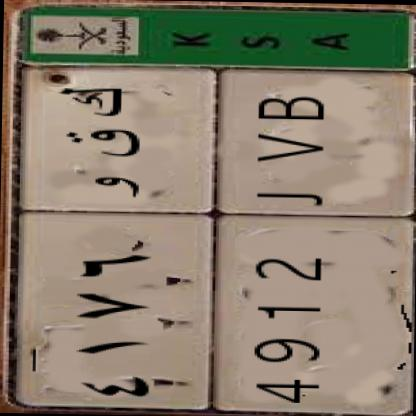english: (205, 71, 408, 408)
